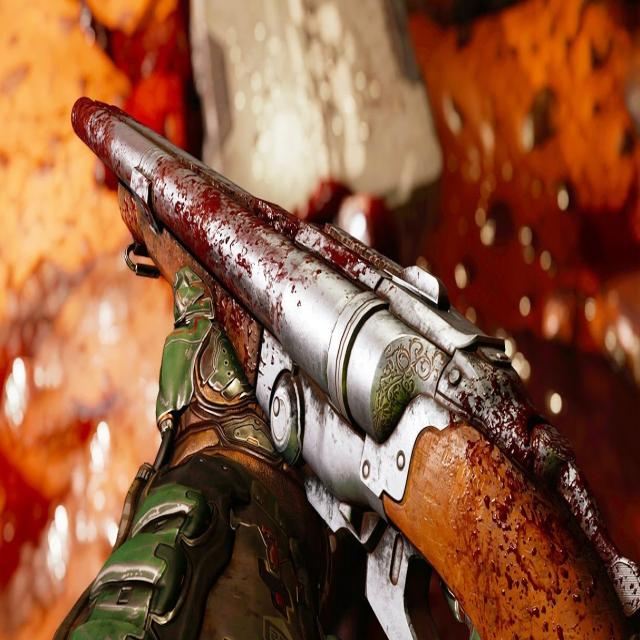Weapon: (72, 98, 640, 640)
